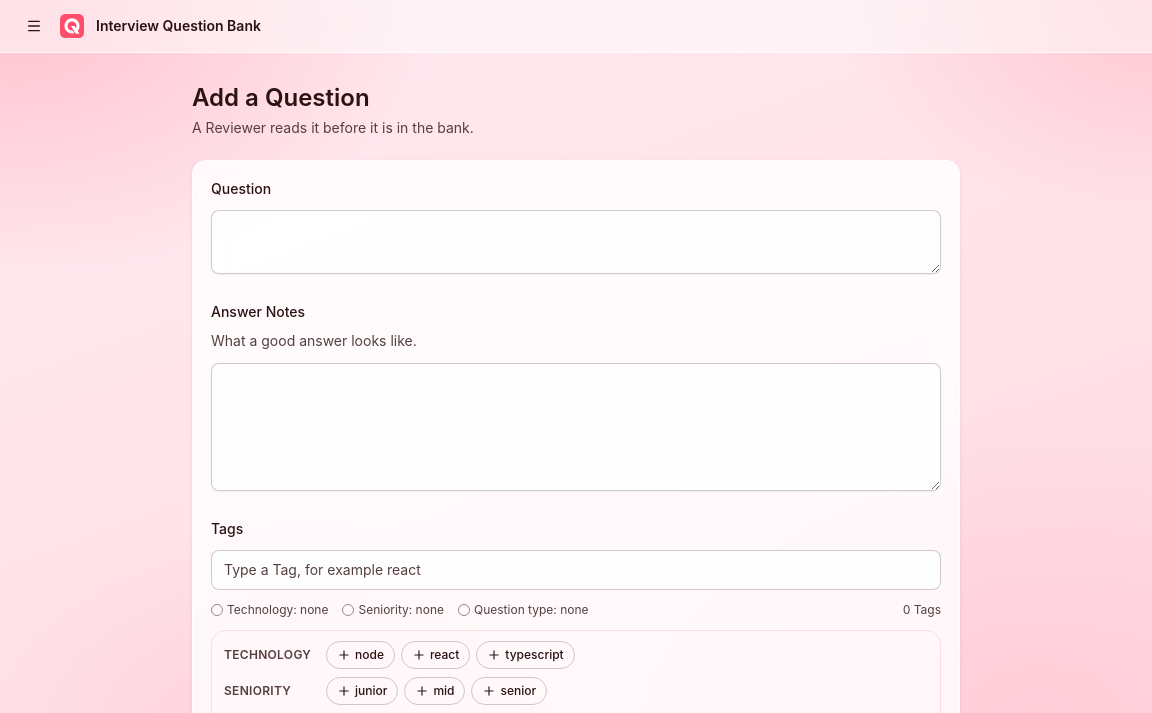
leaving Add a Question › goes to Home on Cancel, and sends nothing
This screenshot has width=1152, height=713.
Type "Half a thought" into the text box labelled "Question" at coordinates (576, 242), box [211,210,941,274]
(page scrolled)
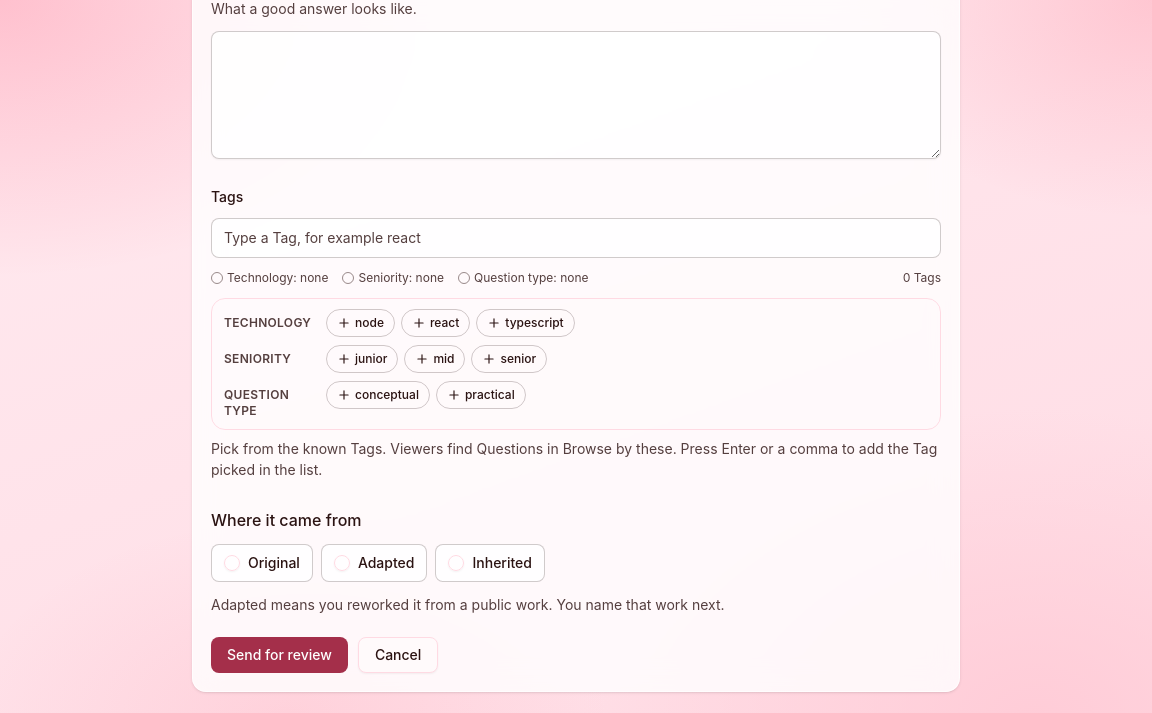
Click the link "Cancel" at coordinates (398, 655), box [358,637,438,673]
(page scrolled)
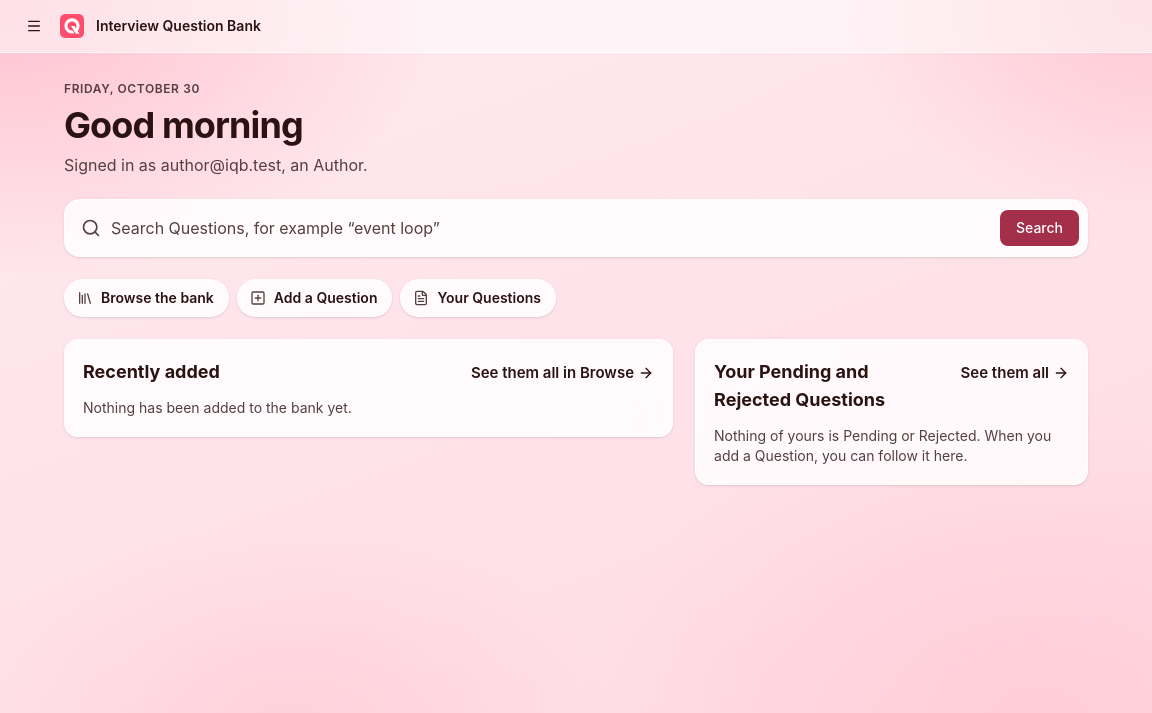
Check: the heading "Good morning" is shown, box [64,103,303,147]
